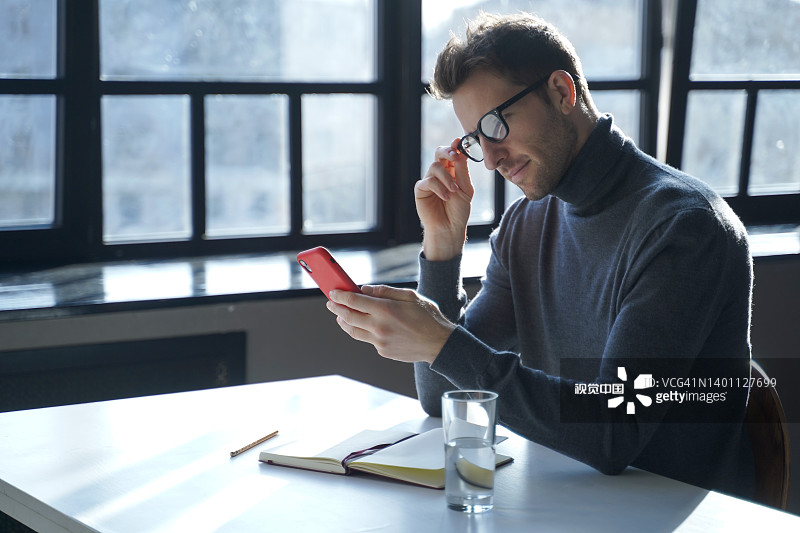reading: (285, 233, 462, 392)
